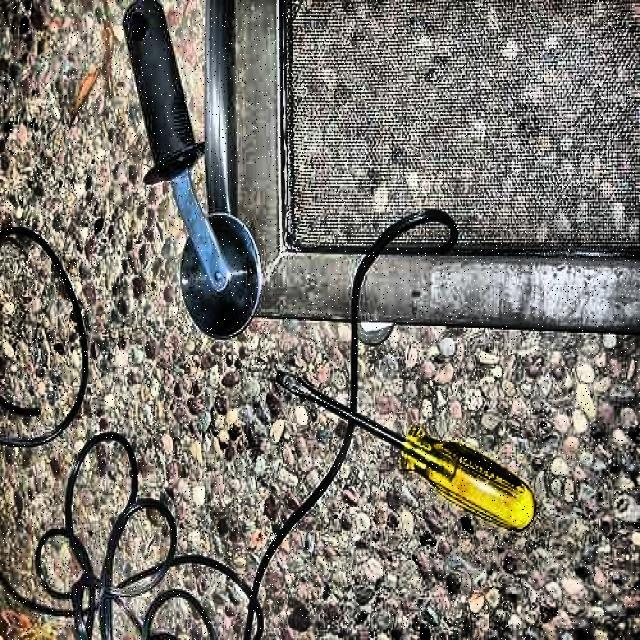screwdriver: (276, 369, 536, 532)
